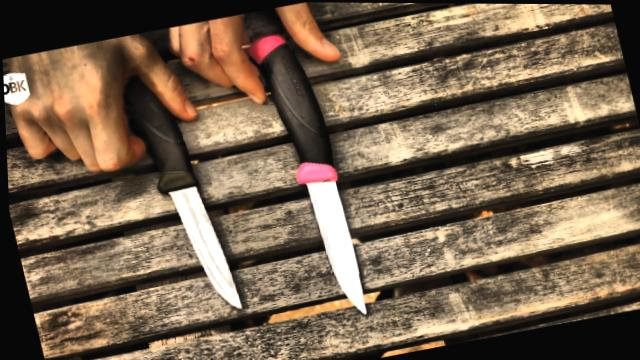knife: (69, 90, 252, 335), (275, 118, 380, 328)
